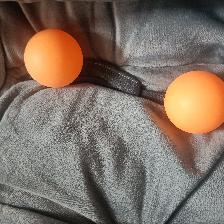YellowBall: (164, 69, 224, 134), (23, 28, 84, 88)
